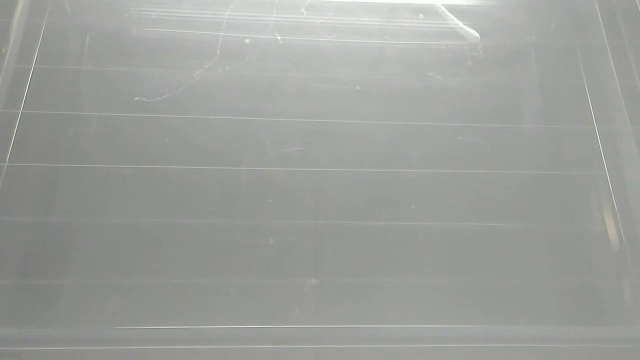alpha: (426, 1, 483, 47)
